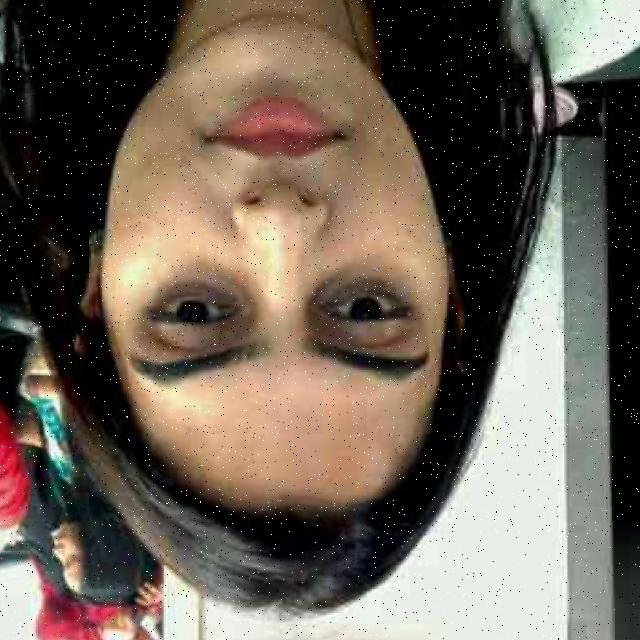puffy_eyes: (306, 267, 410, 309), (157, 266, 246, 303)
